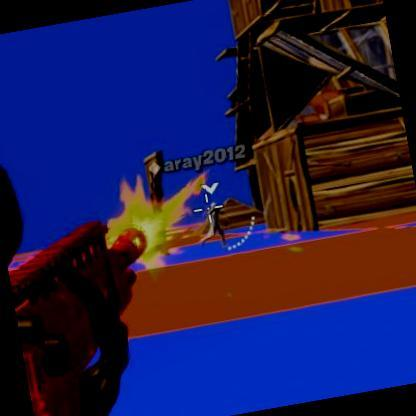person: (202, 192, 232, 243)
